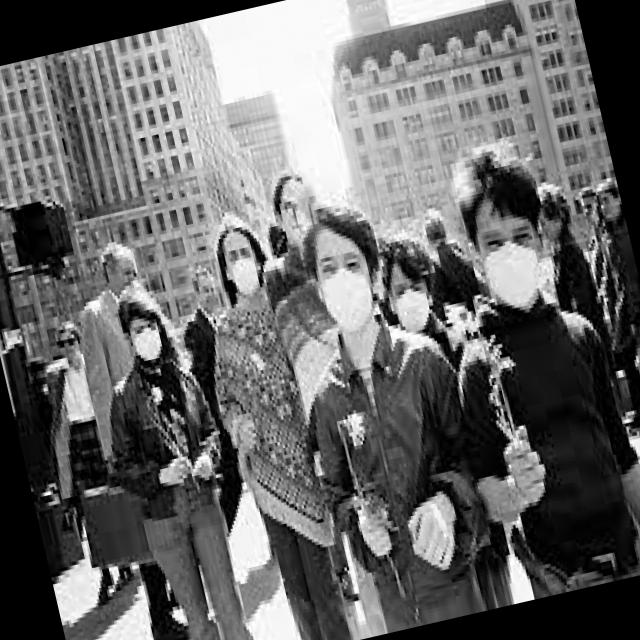Jacket: (284, 310, 510, 612), (80, 343, 247, 562)
